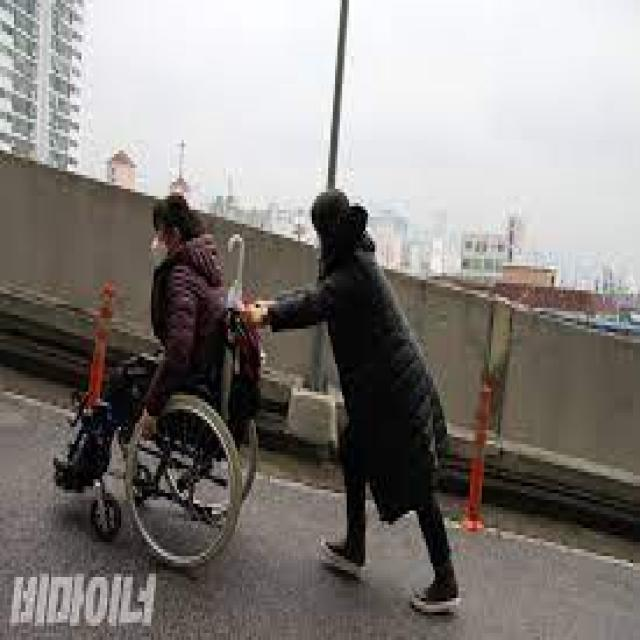wheelchair: (56, 185, 261, 564)
